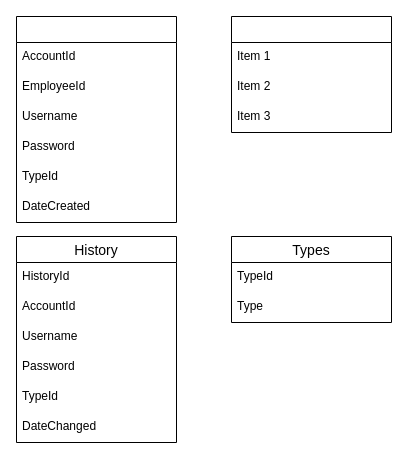
Some shapes in this 408 by 459 pixel diagram are drawn without their labels. Each missing label, with the box of its shape:
Accounts: (16, 16, 176, 222)
Dashboard: (230, 16, 392, 132)
